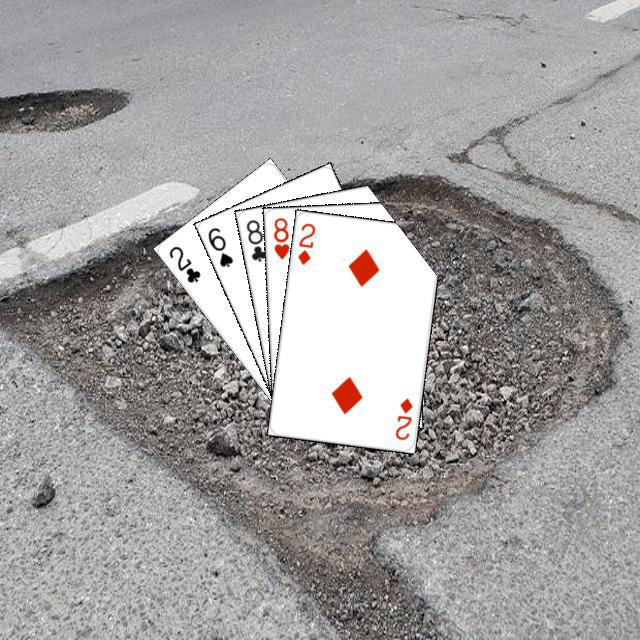2c: (164, 241, 202, 285)
2d: (292, 218, 317, 266), (390, 393, 414, 442)
6s: (203, 222, 235, 269)
8c: (241, 215, 268, 263)
8h: (269, 212, 291, 261)
